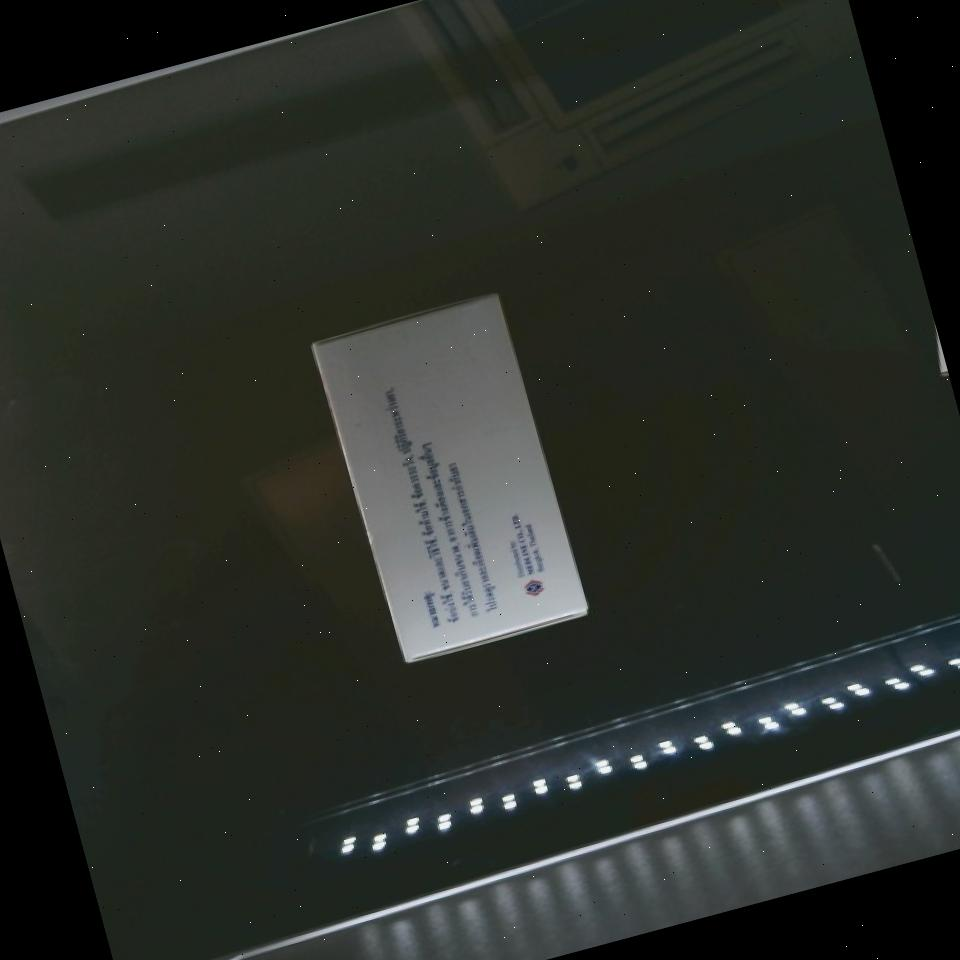sefloc: (309, 290, 587, 666)
